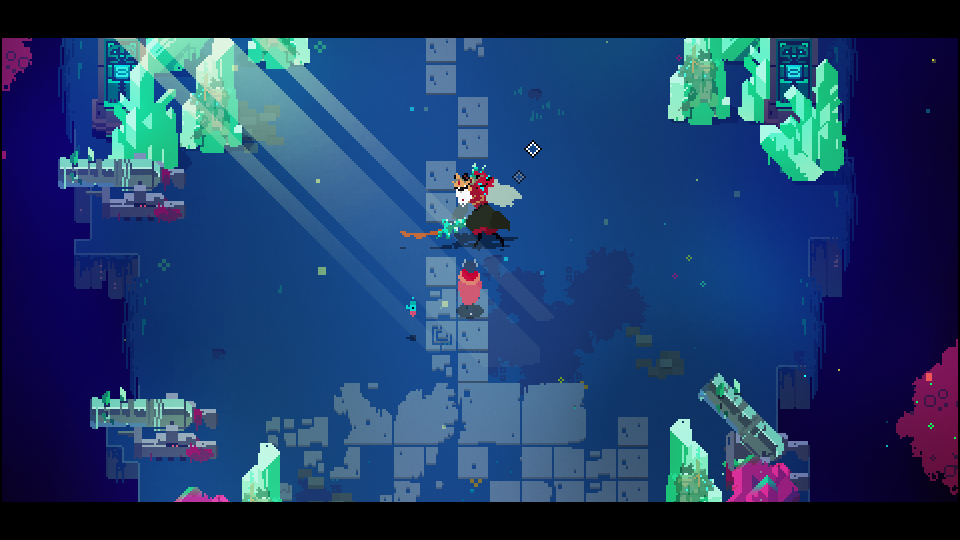hanged_man: (430, 161, 525, 255)
player: (455, 256, 484, 312)
